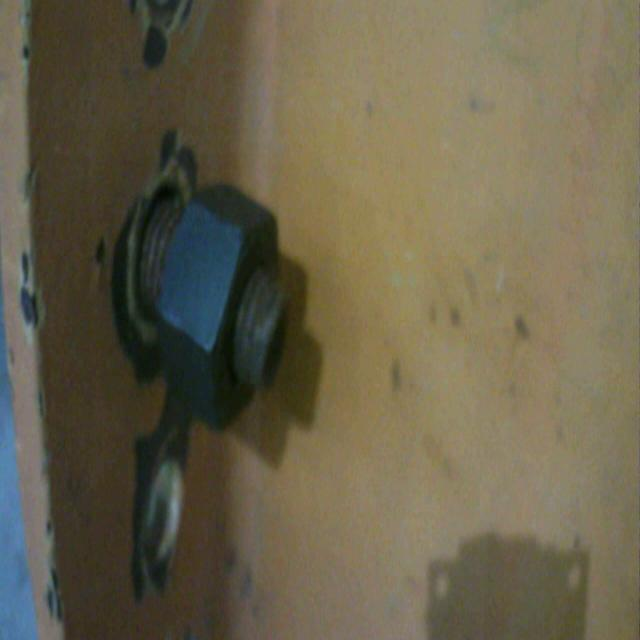Loose bolt: (150, 201, 288, 416)
Missing bolt: (138, 456, 185, 570)
Rusty bolt: (130, 189, 295, 424)
